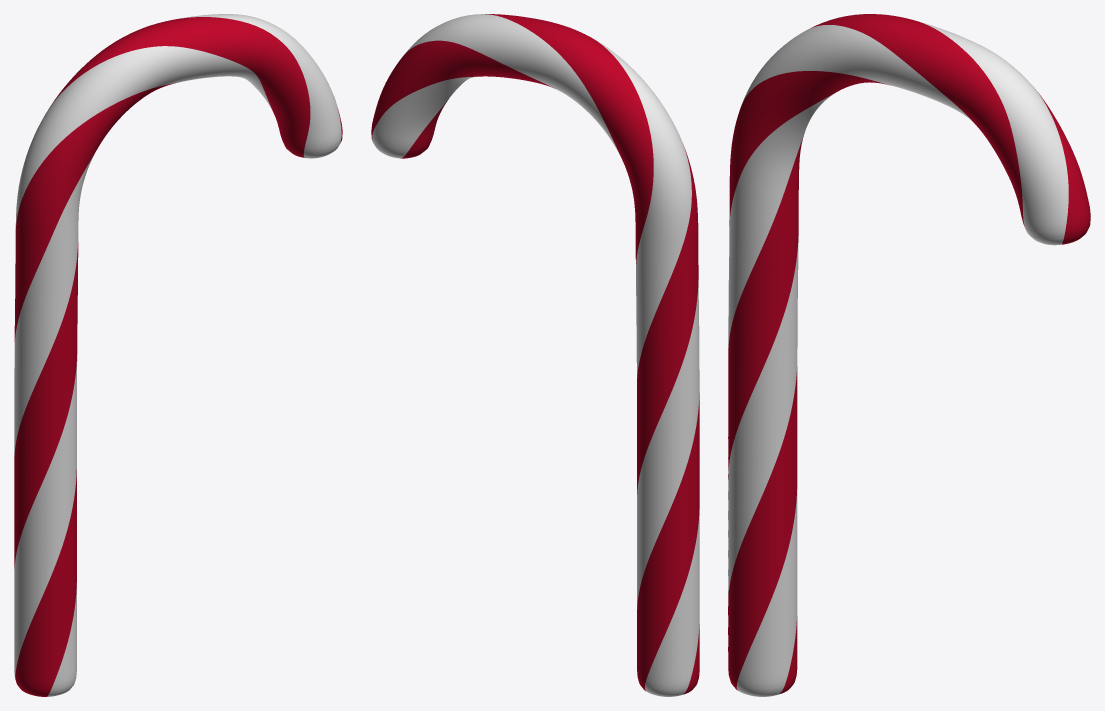
Rendered from CandyCane.glb.
The picture shows the model from 3 angles, left to right: view 1: azimuth 30°, elevation 25°; view 2: azimuth 150°, elevation 25°; view 3: azimuth 330°, elevation 25°; orthographic projection. The views are drawn at different scales.
Parts seen in each view (by area): view 1: CandyCane; view 2: CandyCane; view 3: CandyCane.
Part boxes in pixels (bbox=[...]): CandyCane: bbox=[14, 14, 342, 696]; CandyCane: bbox=[371, 14, 699, 696]; CandyCane: bbox=[728, 14, 1090, 696].
Bounding box in the file's own units: 0.1052 × 0.1995 × 0.0178.
